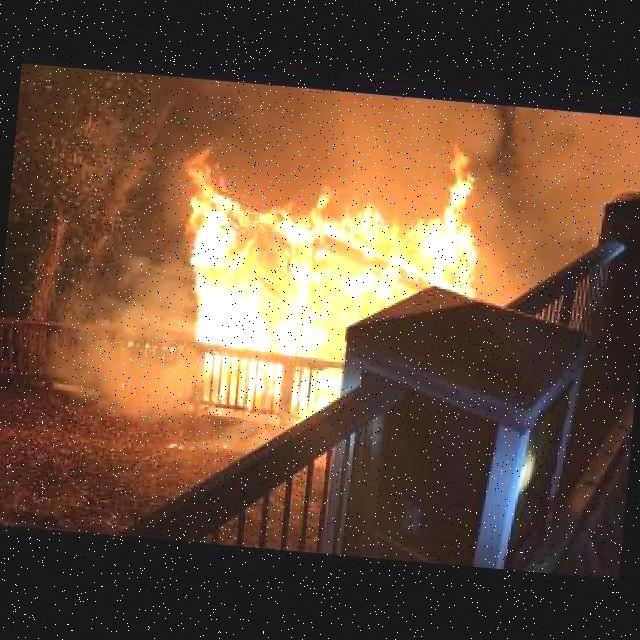Fire: (151, 121, 490, 420)
